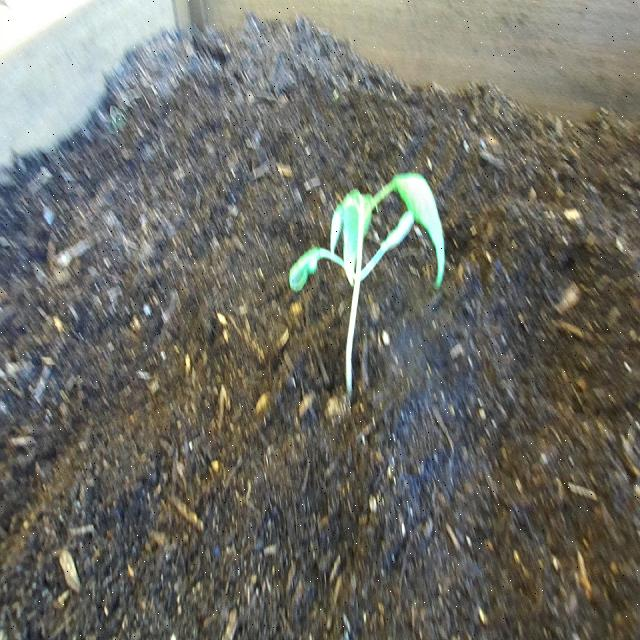Healthy: (279, 157, 453, 412)
